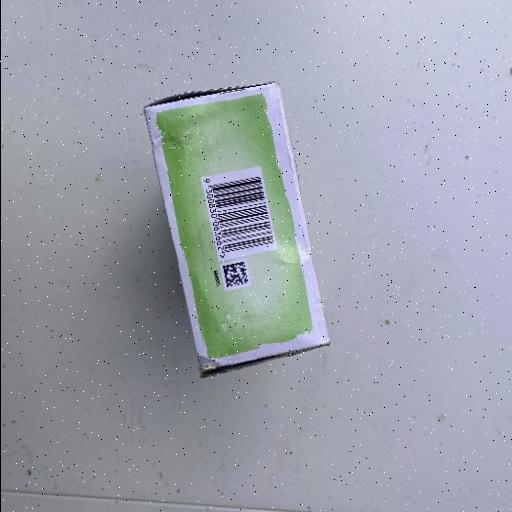Cardboard: (142, 80, 332, 378)
